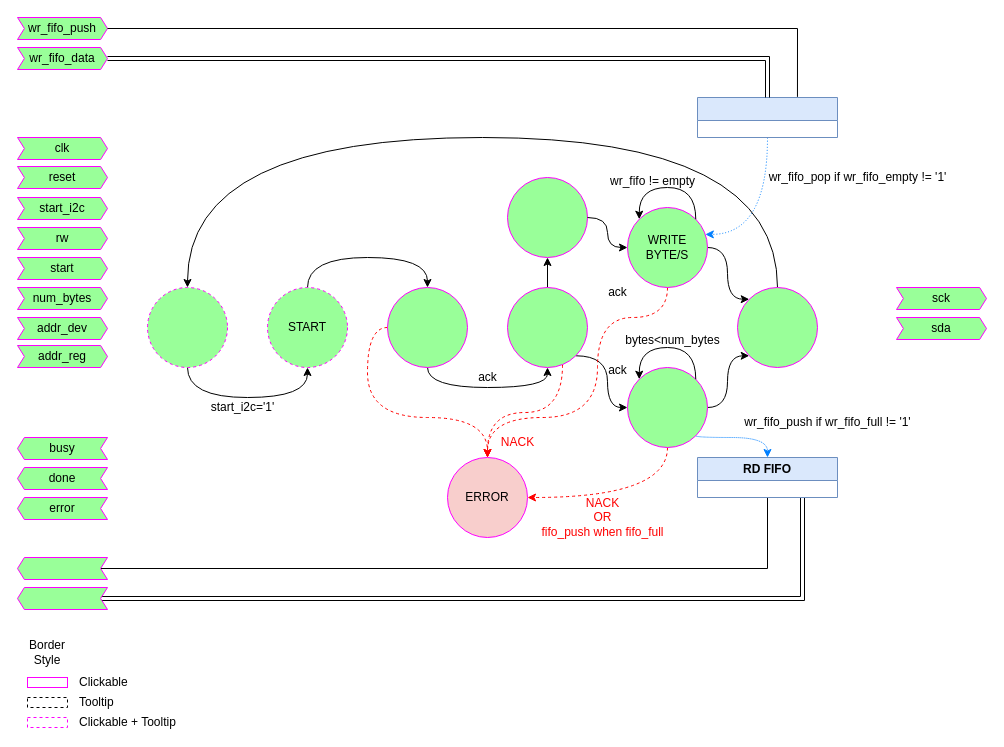
Some shapes in this 1004 by 747 pixel diagram are drawn without their labels. Each missing label, with the centre of its shape:
"IDLE" goes at point (187, 327).
"rd_fifo_data" goes at point (62, 598).
"rd_fifo_pop" goes at point (62, 568).
"READ BYTE/S" goes at point (667, 407).
"SEND ADDR_RD" goes at point (547, 217).
"SEND_ADDR" goes at point (427, 327).
"SEND_REG" goes at point (547, 327).
"STOP" goes at point (777, 327).
"WR FIFO" goes at point (767, 117).
